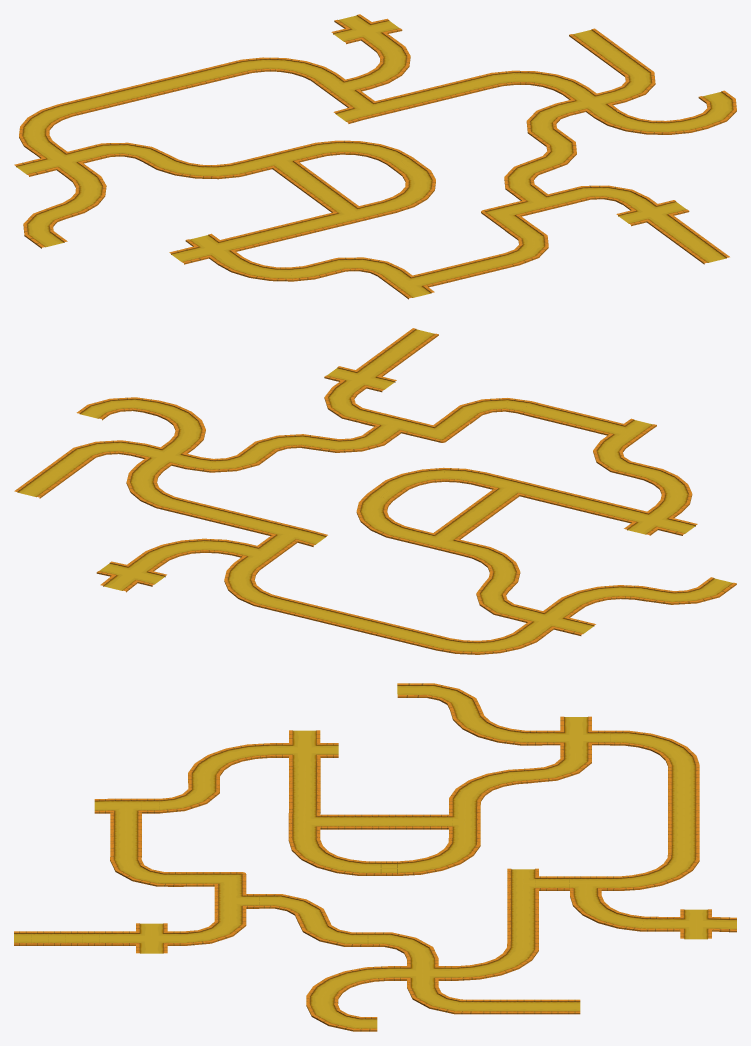
3 renders of one model, top to bottom at view 1: azimuth 30°, elevation 25°; view 2: azimuth 150°, elevation 25°; view 3: azimuth 270°, elevation 25°, orthographic. The views are drawn at different scales.
Parts seen in each view (by area): view 1: Putevi; view 2: Putevi; view 3: Putevi.
Boxes of the visible parts, x1,y1,x2,y2 form: Putevi: [14, 14, 736, 299]; Putevi: [14, 328, 736, 654]; Putevi: [14, 683, 736, 1031].
Size of the model in its own units: 27.26 by 0.0837 by 24.02.
1 material, 1 textured.
